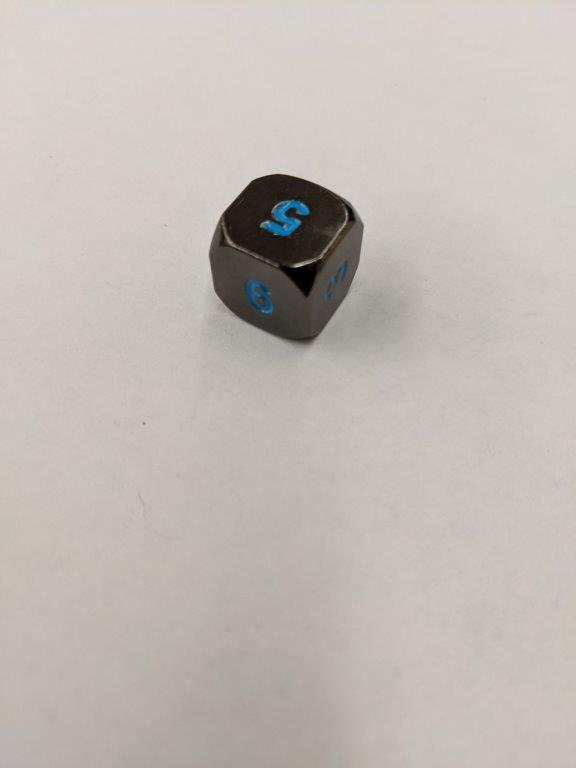d6-5: (204, 173, 367, 344)
